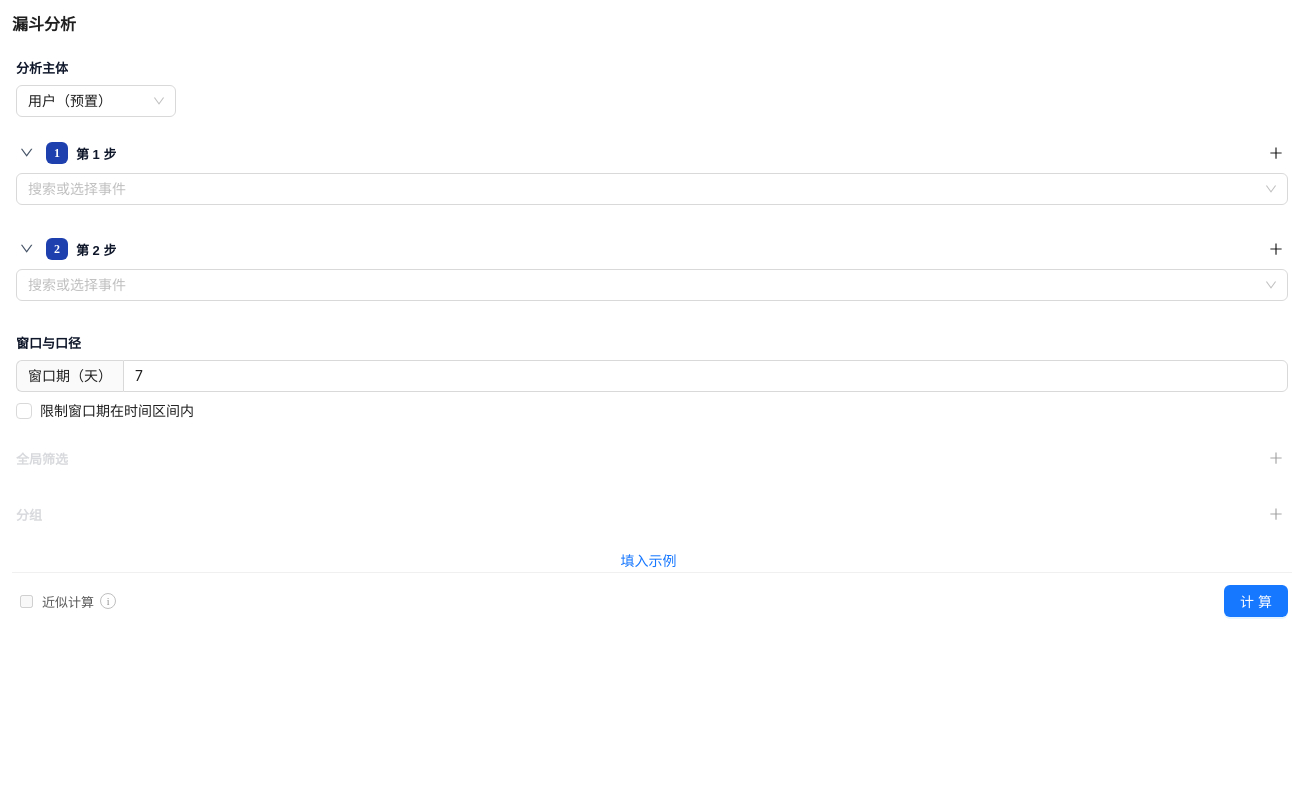
Test case: FunnelEditor › step ➕ menu inserts steps before/after and can reorder
Click the button named "添加第 1 步内容".
click(1276, 153)  # box [1264,141,1288,165]
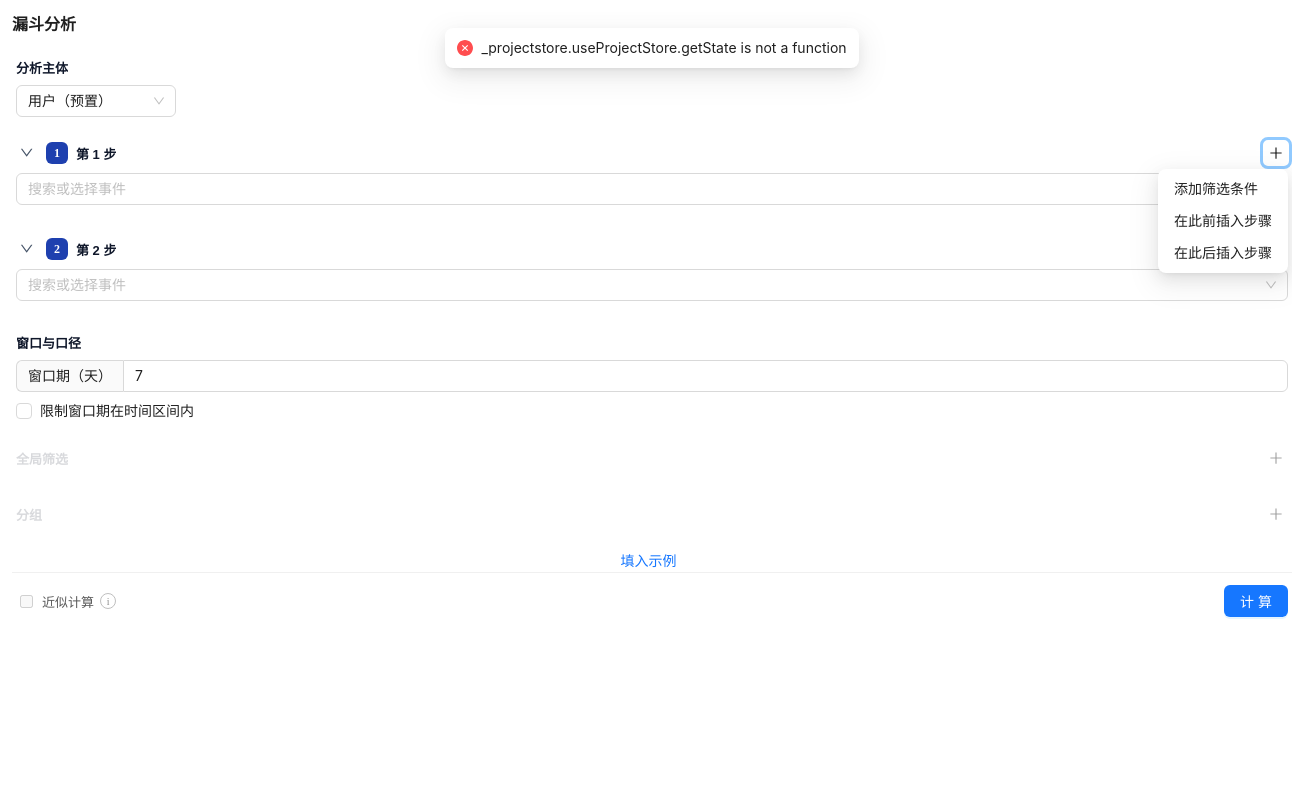
Click the menu item "在此后插入步骤".
click(1223, 252)  # box [1174,244,1272,261]
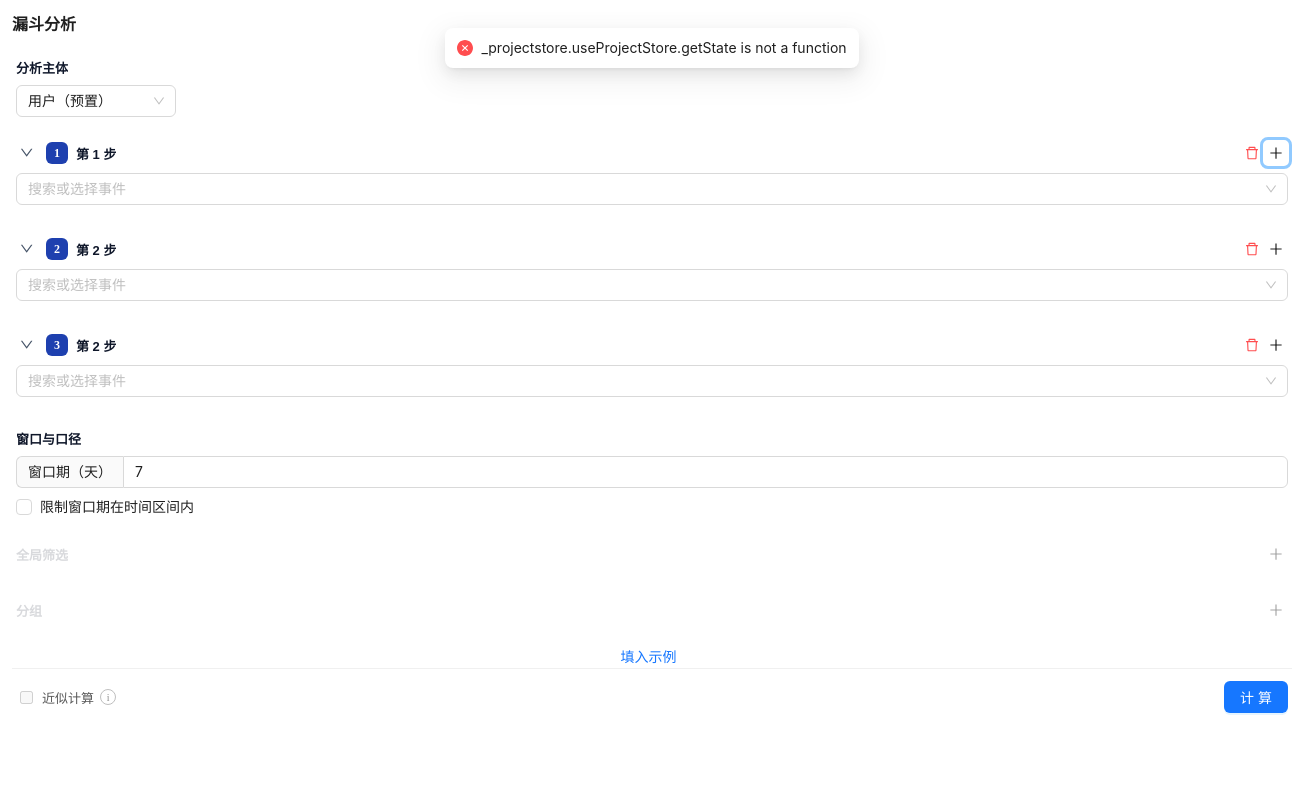
expect the elements titled "点击改名" read "第 1 步", "第 2 步", "第 2 步", in this order: met, box [76,144,116,162]; [76,240,116,258]; [76,336,116,354]
